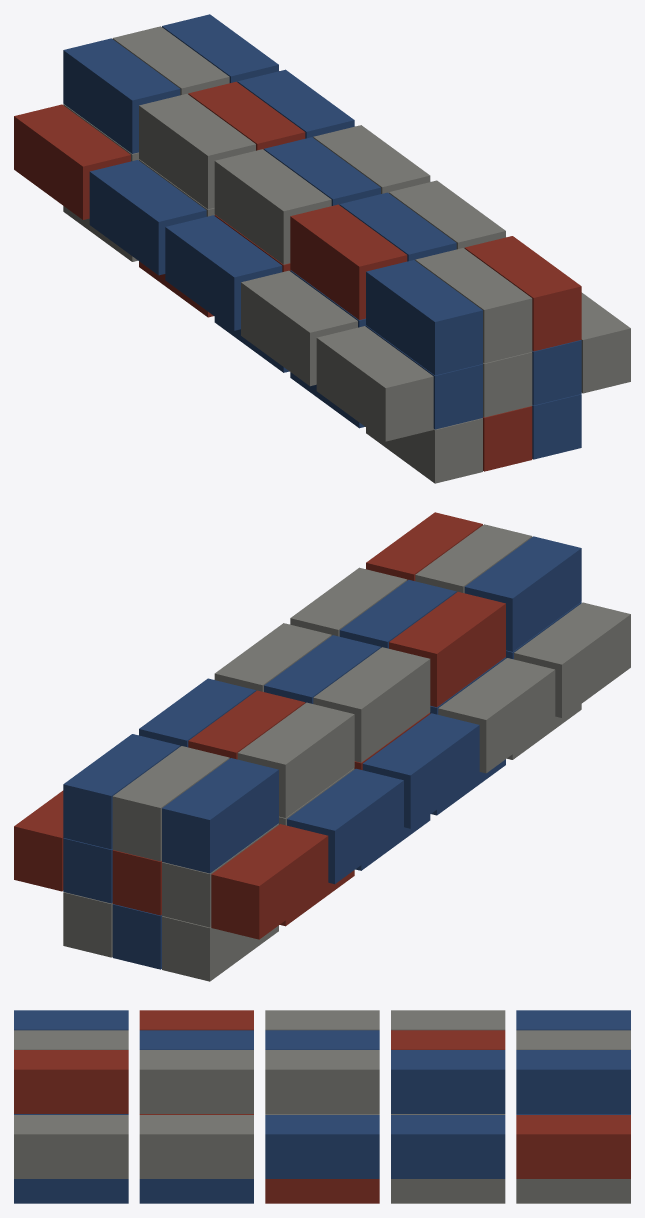
The model's file is cargo4800_load.obj.
3 renders of one model, top to bottom at view 1: azimuth 30°, elevation 25°; view 2: azimuth 150°, elevation 25°; view 3: azimuth 270°, elevation 25°, orthographic. The views are drawn at different scales.
Visible parts, largest first — view 1: cargo4800_load; view 2: cargo4800_load; view 3: cargo4800_load.
Part boxes in pixels (bbox=[...]): cargo4800_load: bbox=[14, 14, 630, 483]; cargo4800_load: bbox=[14, 512, 630, 981]; cargo4800_load: bbox=[14, 1010, 630, 1203].
Size of the model in its own units: 12.44 by 7.83 by 32.65.
